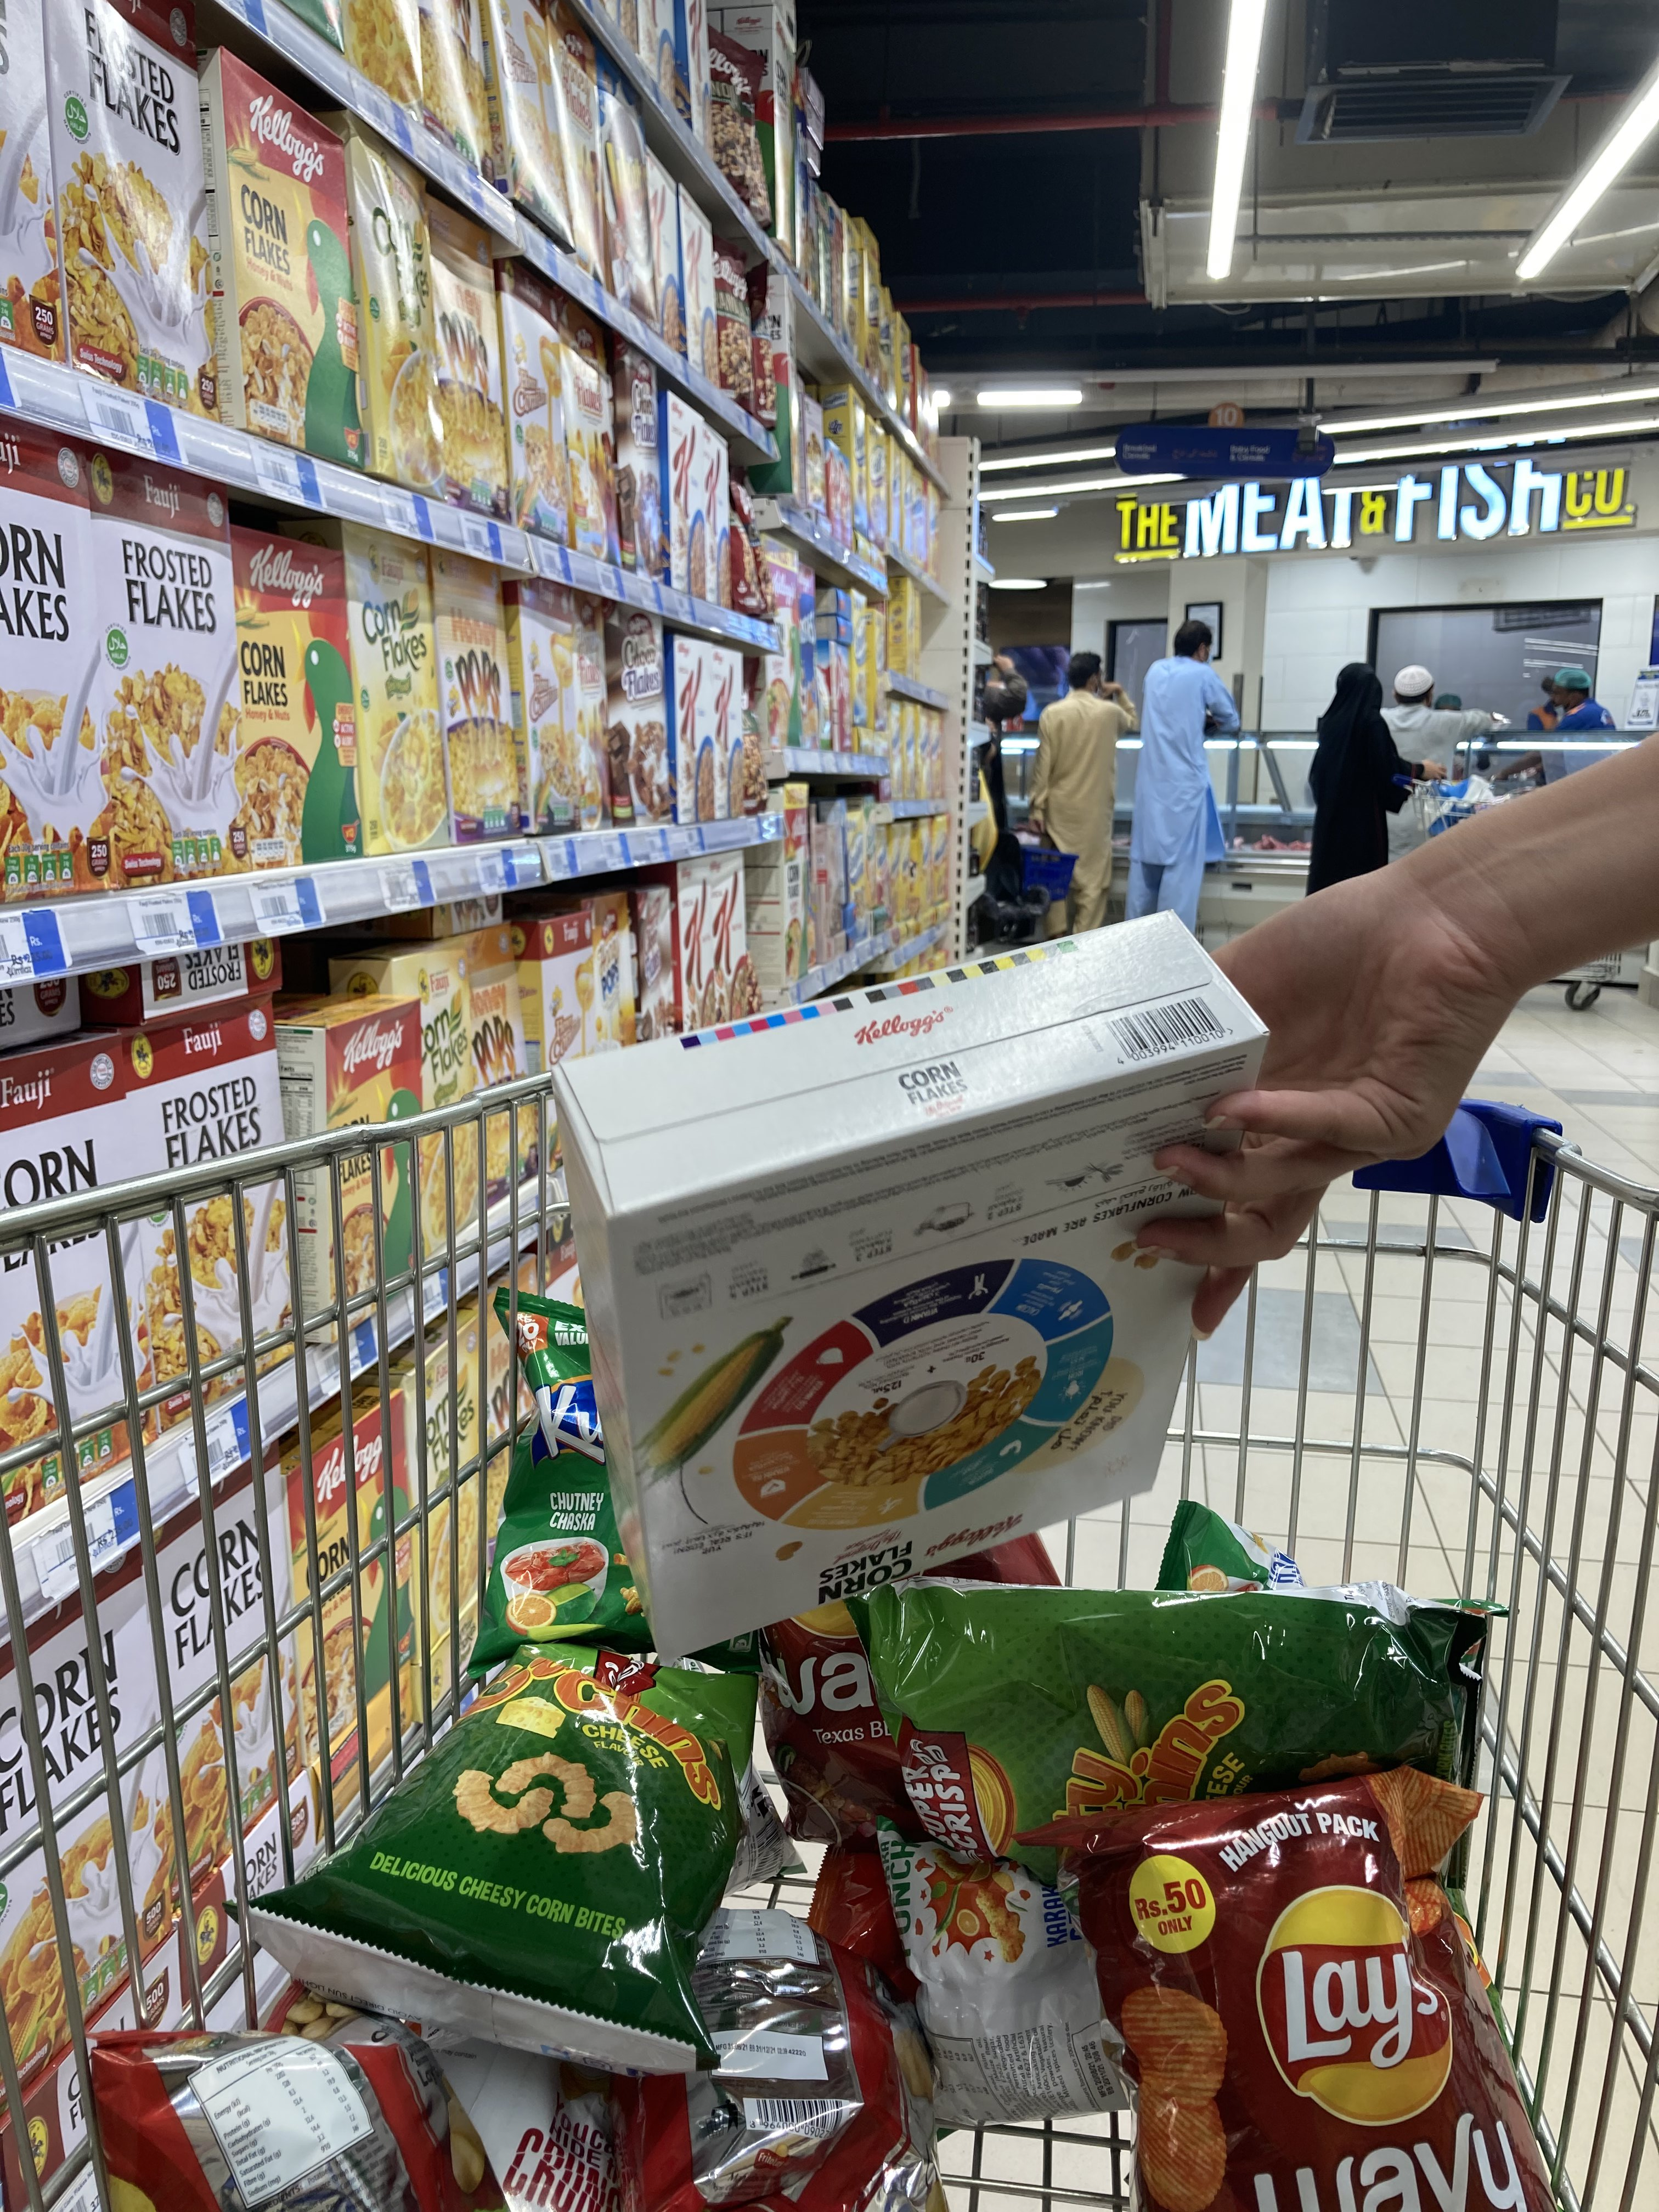Kellogg's Corn Flakes: (547, 907, 1274, 1665)
